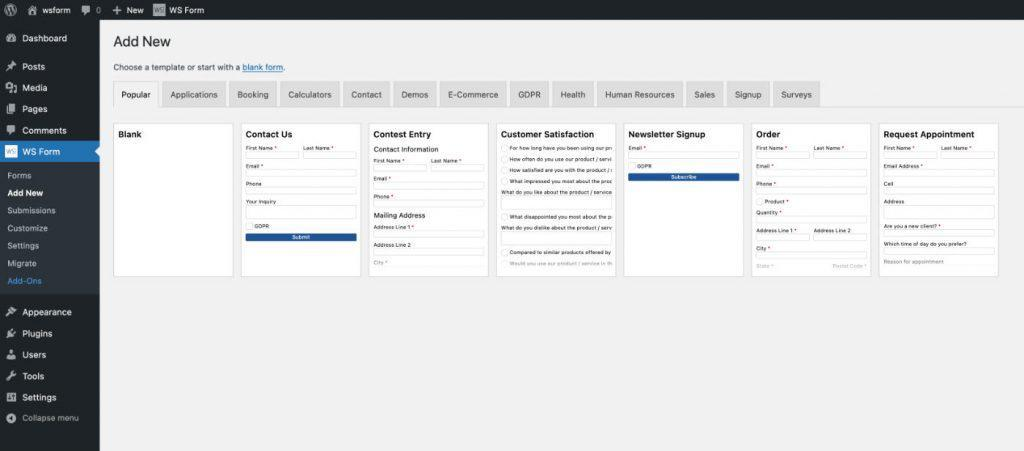button: (598, 81, 684, 107), (162, 83, 227, 109), (441, 83, 507, 107), (281, 84, 341, 108), (343, 82, 392, 108), (773, 84, 821, 109), (230, 83, 277, 107), (395, 83, 438, 108), (115, 83, 159, 106), (247, 234, 357, 243), (509, 83, 549, 107), (554, 83, 595, 106), (727, 85, 769, 107), (688, 82, 724, 107)
checkbox: (629, 164, 637, 171), (247, 224, 253, 230)
icon: (6, 81, 19, 96), (5, 61, 19, 74), (6, 306, 19, 320), (5, 103, 18, 116), (7, 32, 19, 46), (6, 328, 18, 341), (6, 371, 18, 384), (7, 392, 19, 405), (7, 348, 18, 362), (27, 6, 40, 17), (82, 5, 93, 17), (6, 414, 18, 425), (113, 5, 123, 18), (7, 125, 17, 136)
input: (884, 205, 995, 220), (246, 206, 358, 220), (502, 198, 613, 212), (502, 231, 613, 245), (374, 182, 485, 191), (630, 152, 742, 160), (884, 188, 995, 196), (757, 217, 868, 225), (757, 188, 868, 196), (374, 232, 485, 240), (374, 249, 485, 257), (247, 188, 357, 196), (246, 171, 358, 178), (374, 201, 485, 208), (885, 171, 995, 178), (757, 170, 867, 177), (884, 249, 996, 255), (884, 231, 995, 237), (757, 253, 868, 259), (757, 152, 811, 161), (885, 152, 938, 160), (757, 234, 810, 242), (374, 165, 427, 173), (433, 165, 485, 173), (941, 153, 996, 160), (304, 152, 358, 159), (814, 153, 868, 160), (247, 153, 300, 160), (815, 236, 868, 242)
label: (884, 242, 968, 249), (883, 223, 944, 231), (756, 227, 802, 234), (814, 227, 853, 235), (756, 145, 790, 153), (375, 225, 415, 231), (374, 243, 414, 249), (246, 145, 278, 152), (373, 158, 408, 164), (884, 164, 925, 169), (245, 200, 279, 206), (766, 199, 791, 207), (814, 146, 847, 152), (884, 146, 917, 152), (942, 146, 974, 152), (757, 210, 783, 217), (303, 146, 336, 151), (431, 159, 463, 164), (246, 163, 265, 170), (755, 246, 774, 253), (884, 200, 906, 206), (637, 163, 653, 171), (244, 182, 265, 188), (756, 163, 777, 169), (757, 182, 778, 188), (629, 146, 649, 152), (373, 195, 396, 200), (883, 180, 896, 188), (255, 224, 271, 230), (375, 177, 392, 182)
radio: (501, 145, 510, 155), (501, 178, 510, 187), (502, 250, 511, 259), (502, 167, 510, 176), (501, 214, 510, 222), (502, 156, 510, 164)
